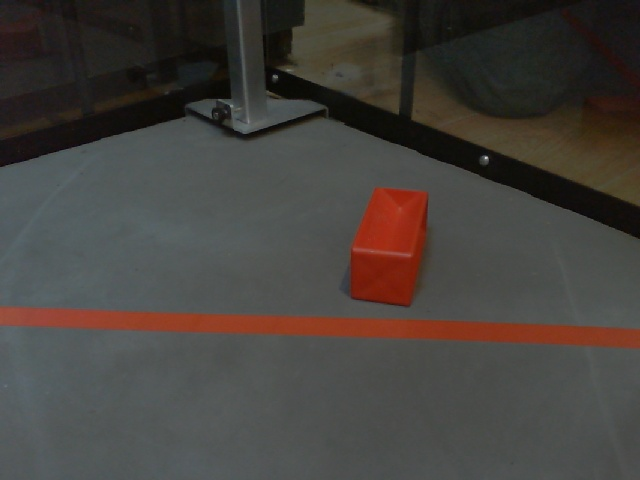RedSample: (345, 186, 432, 305)
